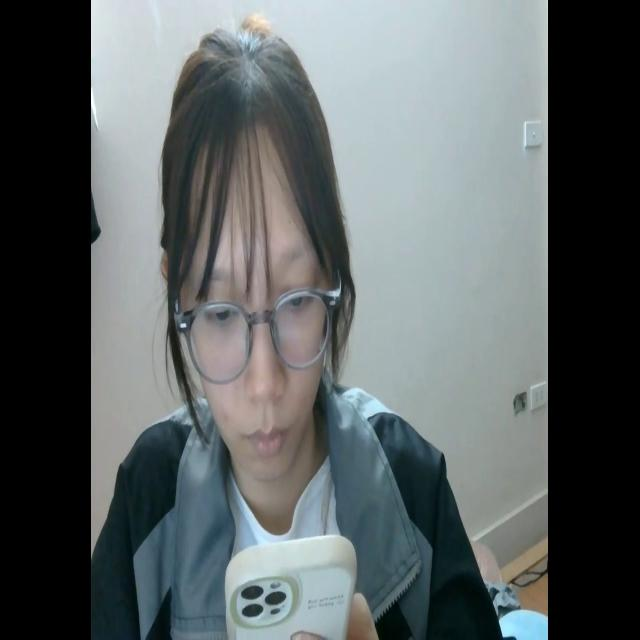phone: (224, 526, 362, 640)
student: (96, 19, 501, 640)
